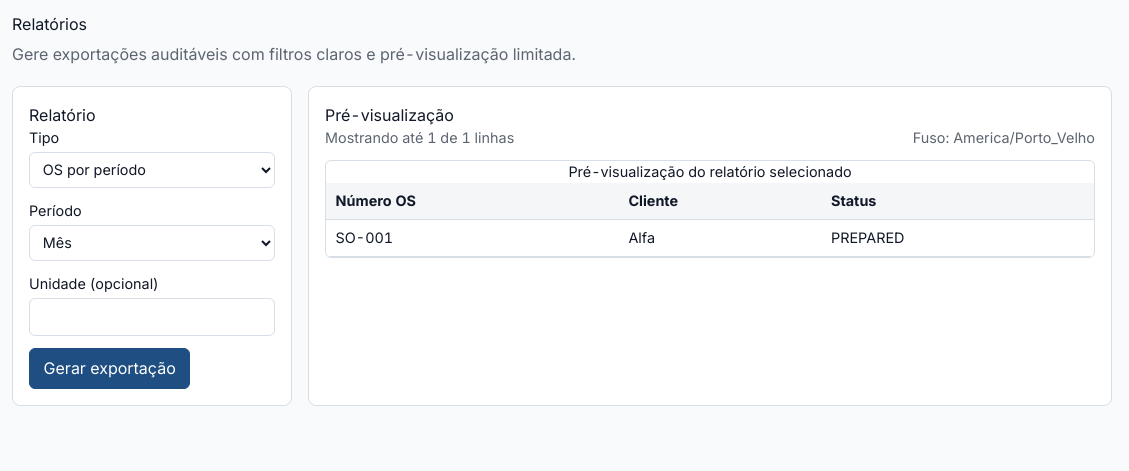
it: ReportsPage › generates export and exposes download action
Check: the text "SO-001" is shown, box [326,219,619,256]
What coordinates should you click on to do the following:
click the button "Gerar exportação"
I would click on:
 (110, 368)
Its box is [29,348,190,388].
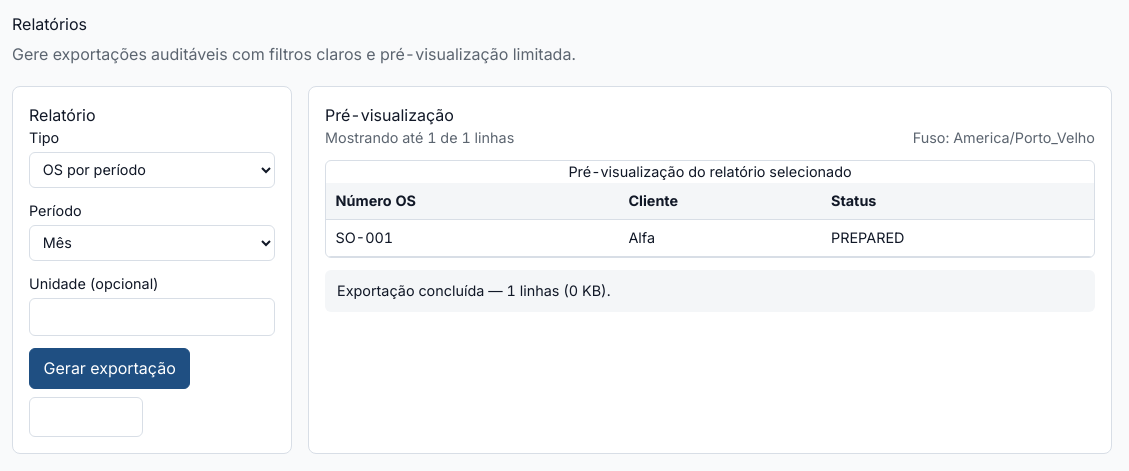
Check: the button "Baixar CSV" is shown, box [29,396,142,437]
Check: the text "Exportação concluída — 1 linhas (0 KB)." is shown, box [337,282,611,299]
